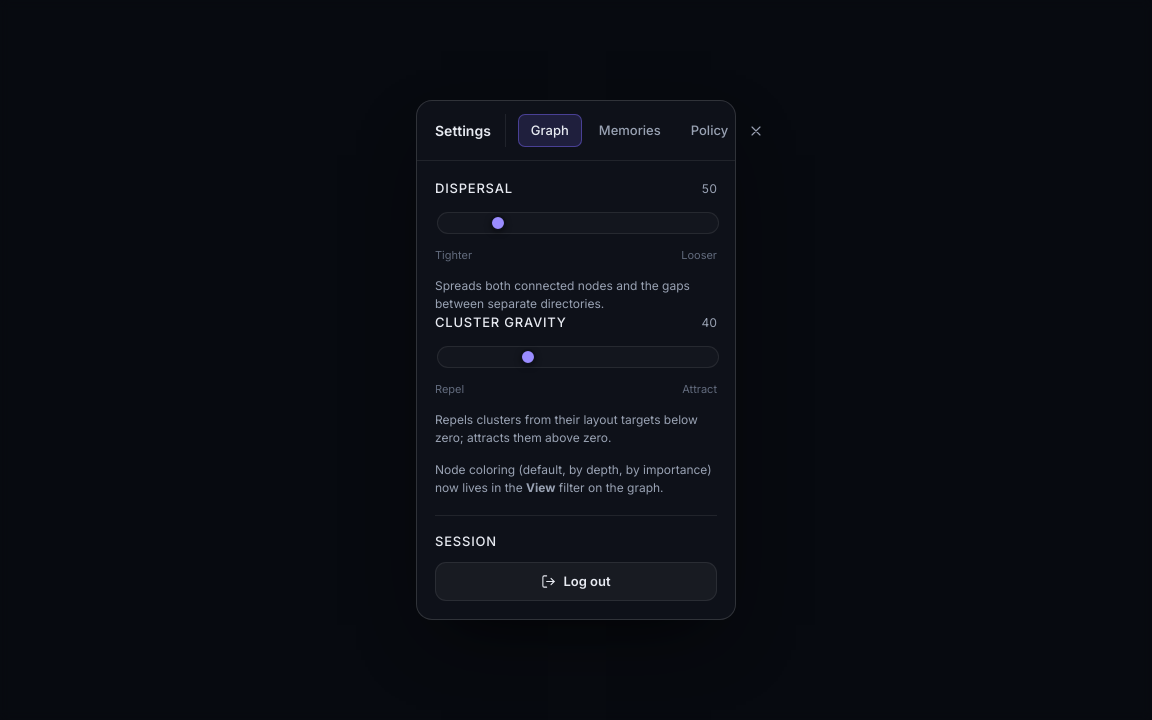
Test: SettingsModal — Memories tab › revives a dead memory and drops it from the list
What coordinates should you click on to do the following:
click the tab "Memories"
I would click on:
 (630, 131)
Its box is [586, 114, 674, 147].
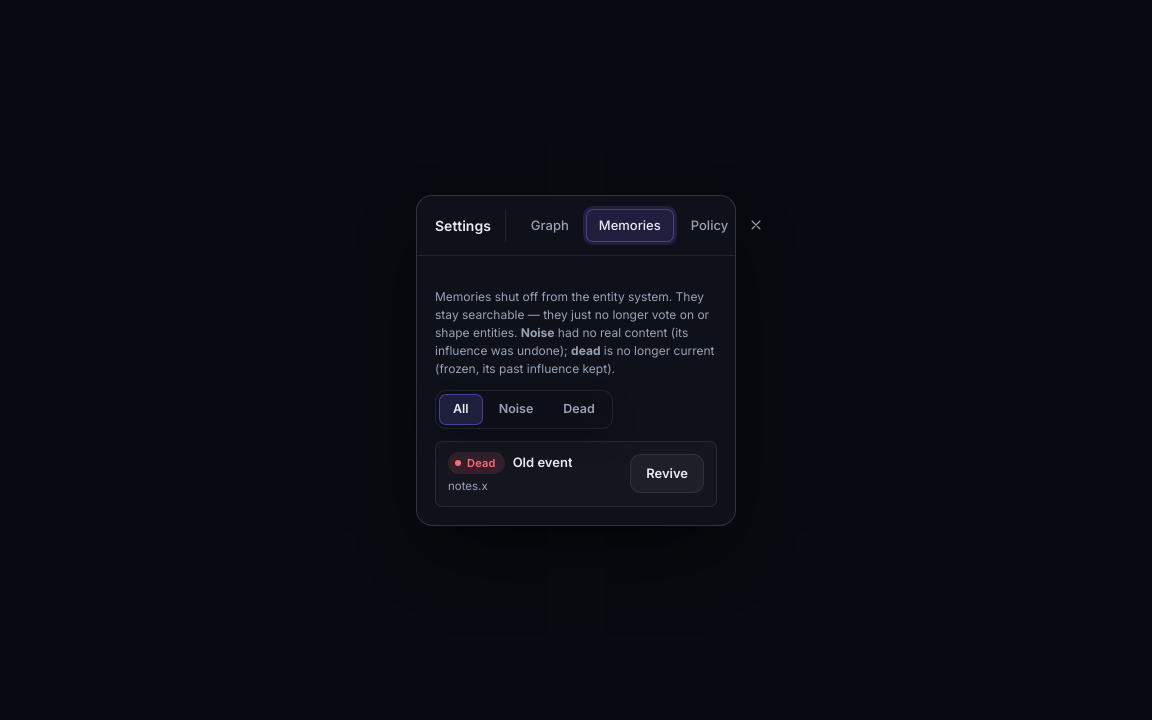
Now the text "Old event" is shown, box [513, 453, 572, 473]
What coordinates should you click on to do the following:
click the button "Revive"
I would click on:
 (667, 474)
Its box is [630, 454, 704, 493].
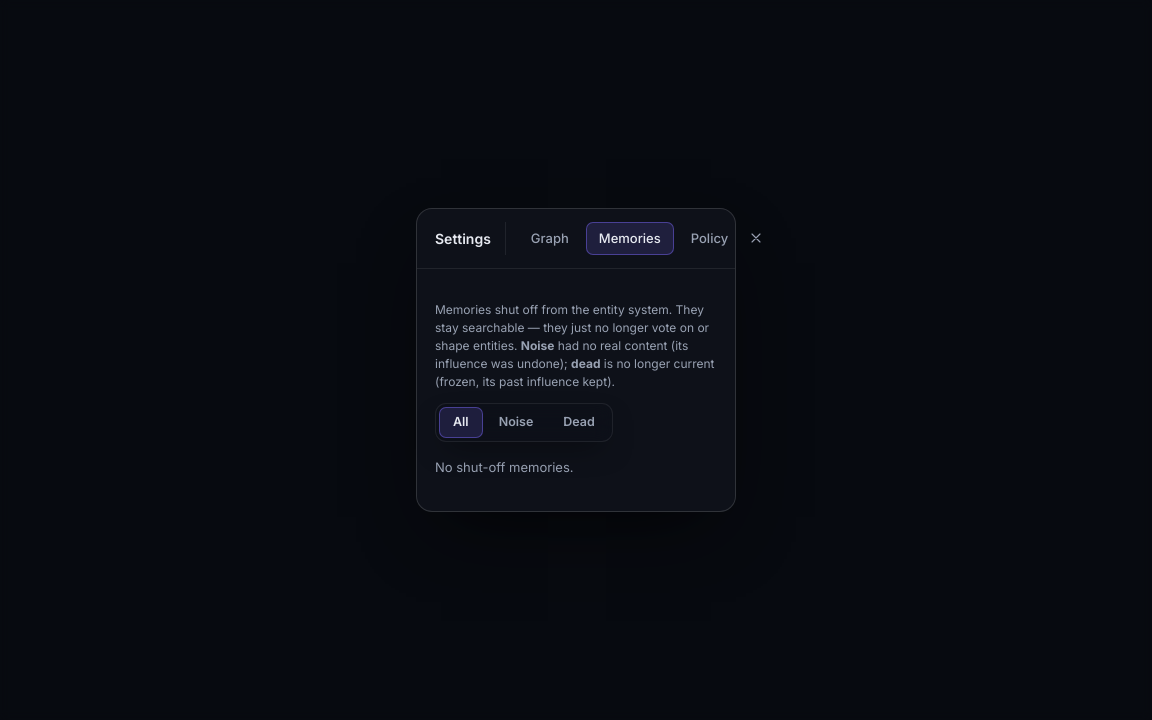
Now the text "Old event" is gone
